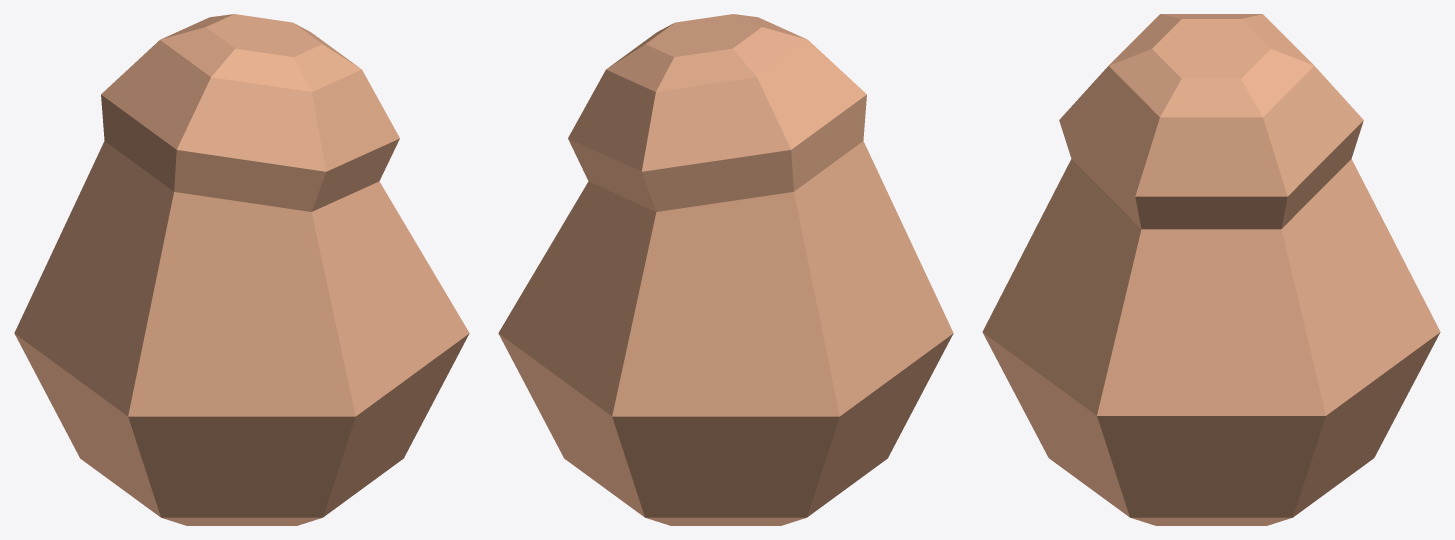
The model's file is Potato.fbx.
3 renders of one model, left to right at view 1: azimuth 30°, elevation 25°; view 2: azimuth 150°, elevation 25°; view 3: azimuth 270°, elevation 25°, orthographic.
Visible parts, largest first — view 1: Potato; view 2: Potato; view 3: Potato.
Boxes of the visible parts, bbox=[...] form: Potato: bbox=[14, 14, 469, 525]; Potato: bbox=[498, 14, 953, 525]; Potato: bbox=[982, 14, 1440, 525].
Size of the model in its own units: 6.93 by 8.78 by 8.
1 material, 1 textured.
